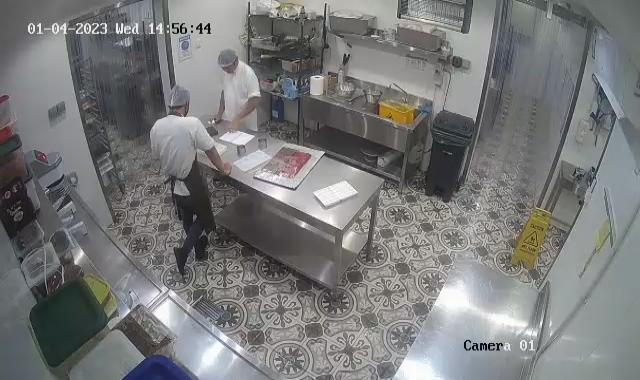hairnet: (166, 82, 190, 112), (217, 47, 238, 71)
